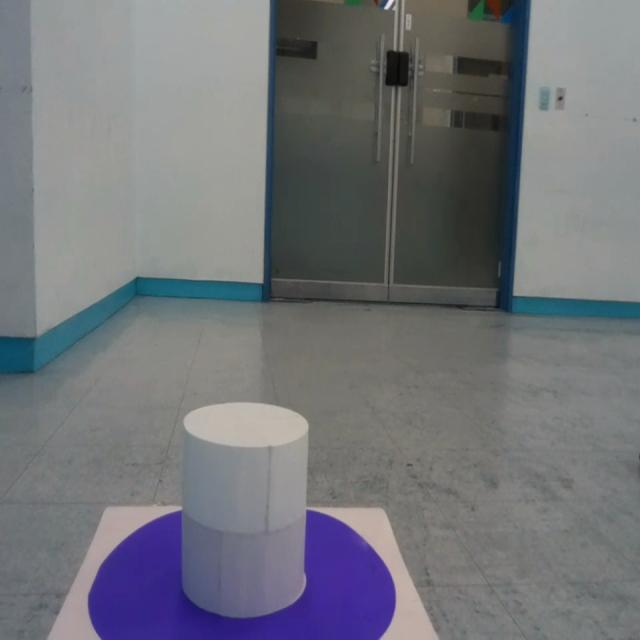cylinder: (180, 402, 311, 617)
